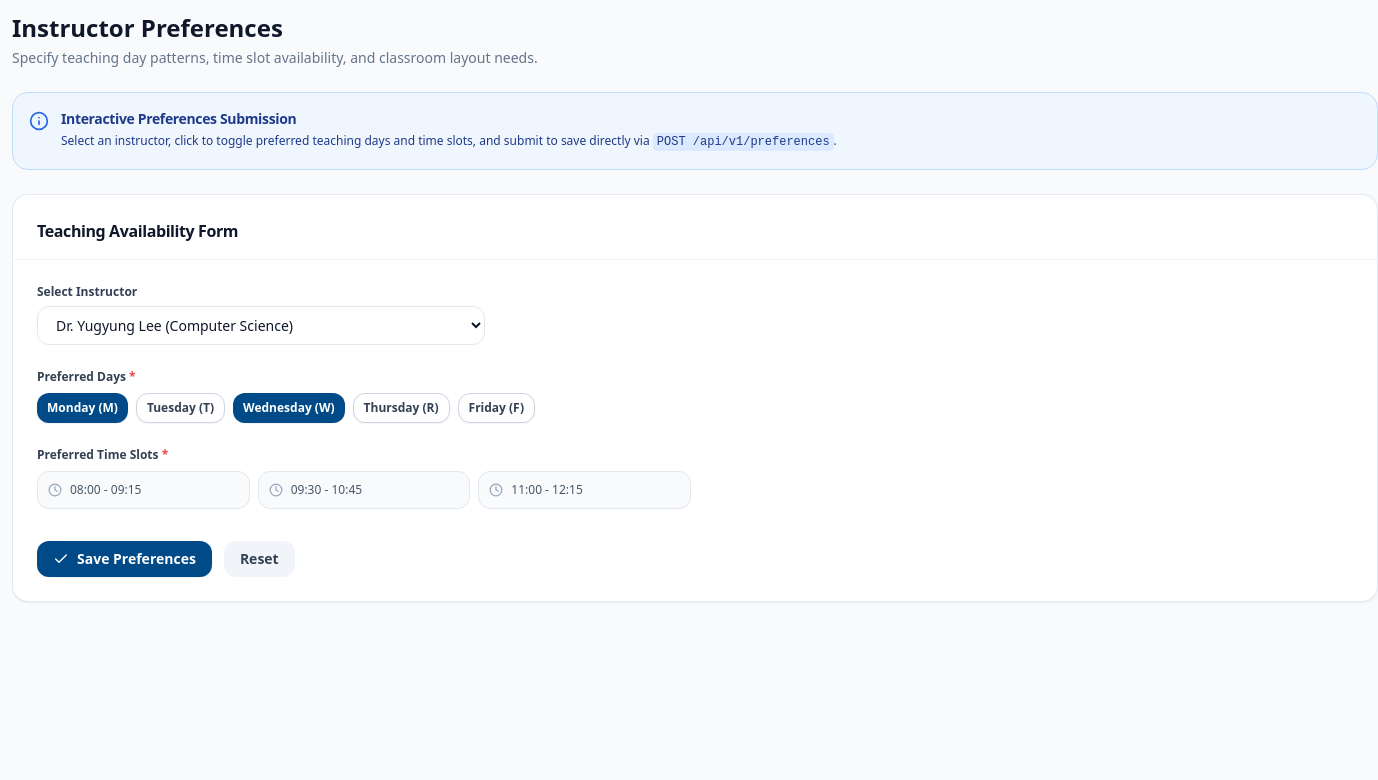
Test: PreferencesPage Component › submits catalog slot keys to API and displays success toast
The width and height of the screenshot is (1378, 780).
# Select a time slot (Monday and Wednesday are already selected by default)
Click the button with test id "slot-09:30-10:45": (364, 490) 258,470 -> 470,508
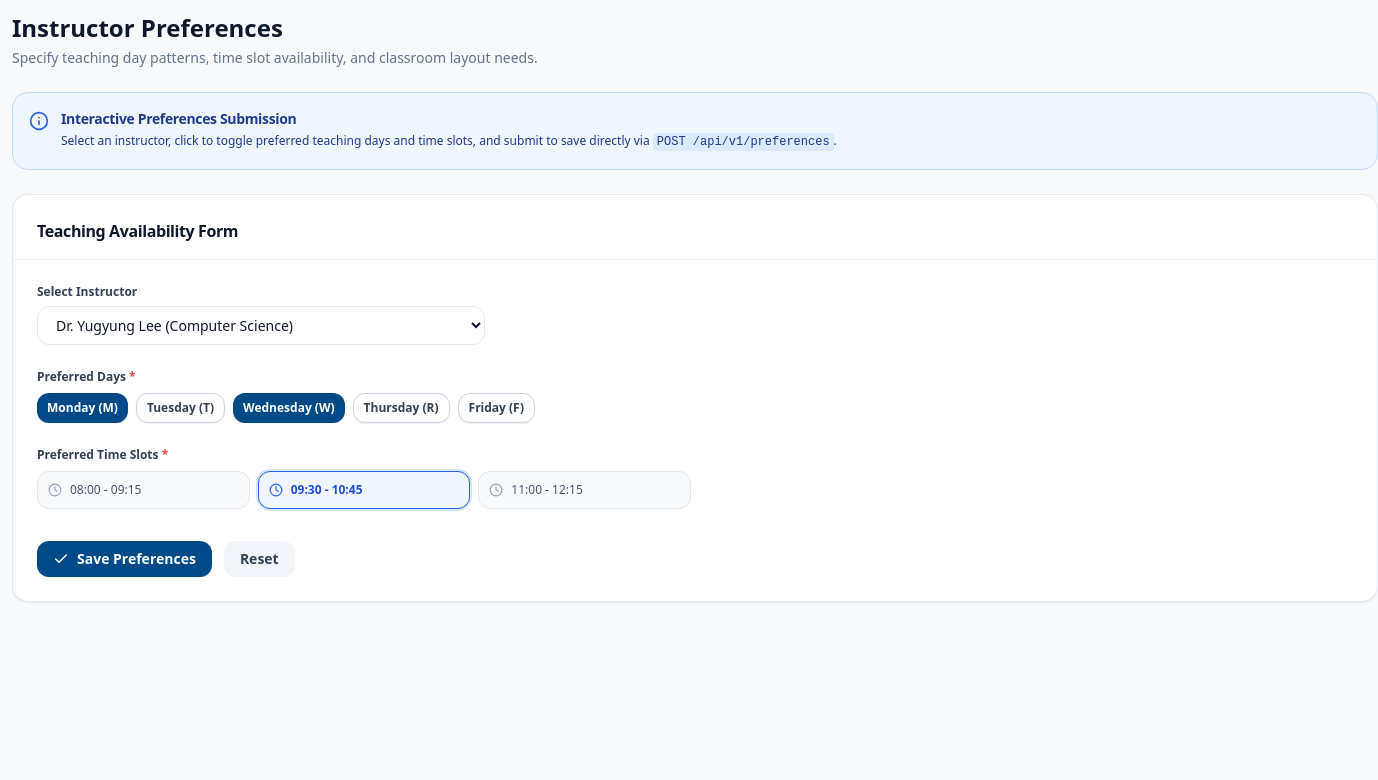
# Click Save Preferences
Click the button "Save Preferences": (124, 558) 37,540 -> 212,576
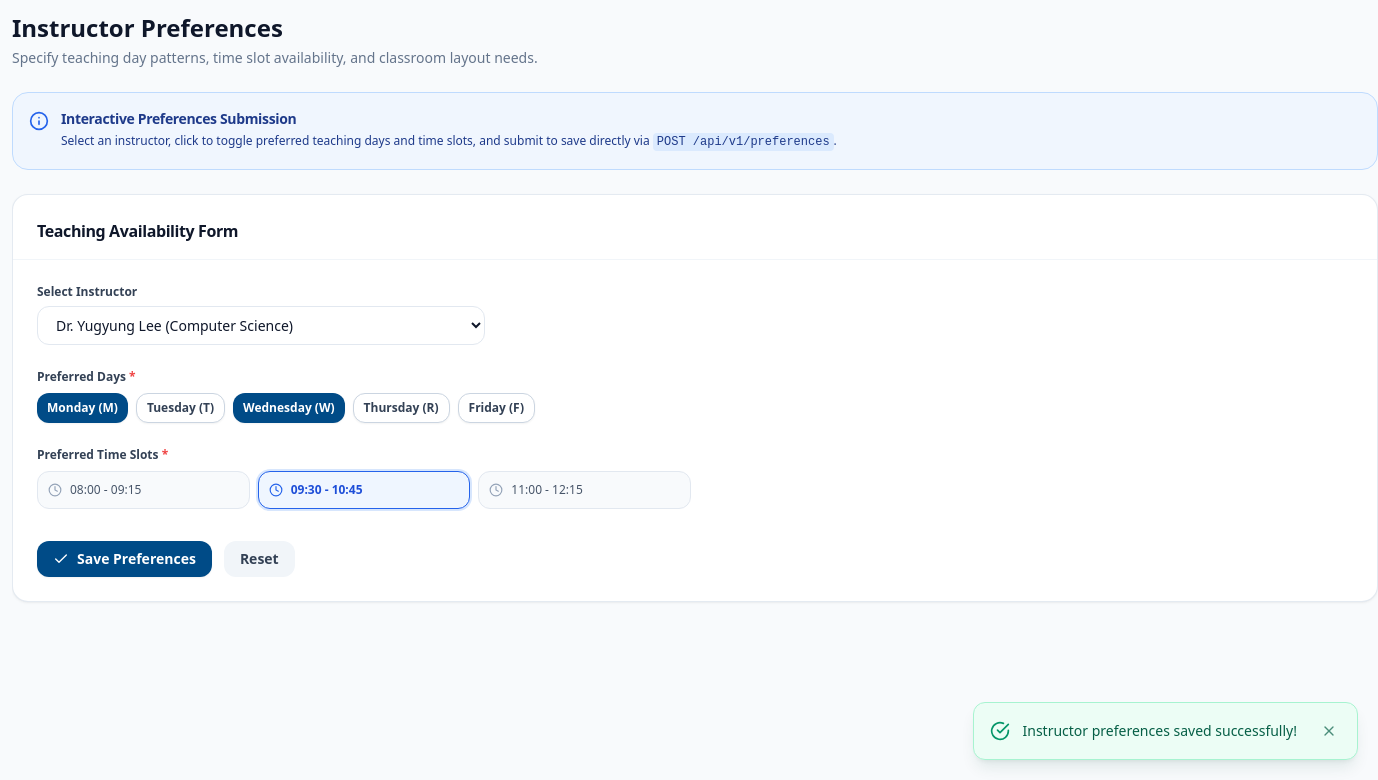
Expected: the text "Instructor preferences saved successfully!" is shown, 1022,721 -> 1305,741
